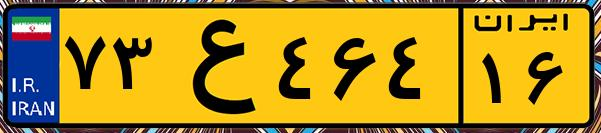1: (475, 38, 525, 113)
3: (110, 28, 158, 98)
4: (270, 28, 330, 110), (385, 28, 445, 110)
6: (330, 28, 385, 110), (525, 38, 570, 115)
7: (57, 26, 110, 100)
ع: (158, 12, 270, 120)
